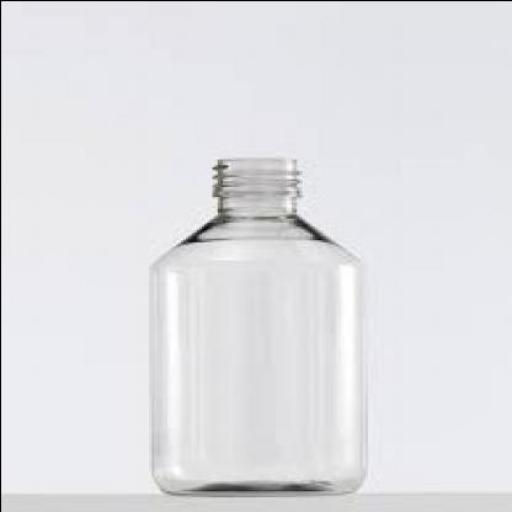glass: (148, 156, 362, 490)
